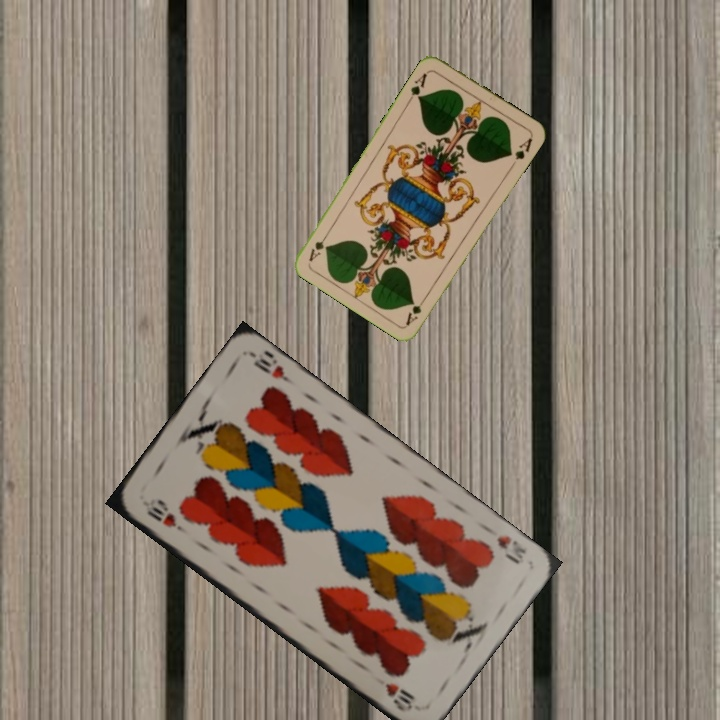GA: (402, 291, 430, 328), (405, 67, 432, 104)
H10: (142, 502, 189, 537), (492, 531, 529, 567)
